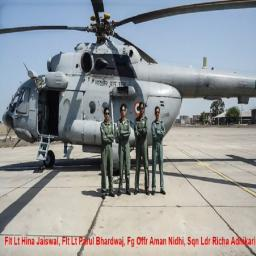helicopter: (4, 16, 252, 176)
